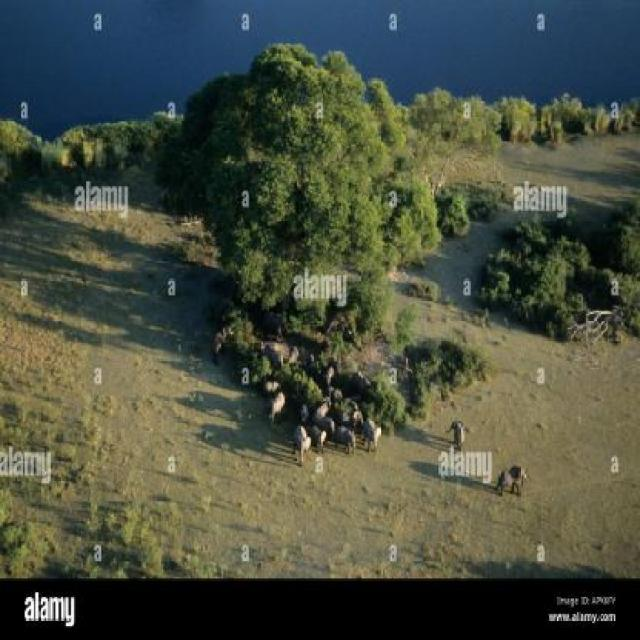elephant: (496, 462, 529, 502), (330, 422, 355, 463), (341, 395, 365, 434), (304, 414, 327, 452), (321, 360, 345, 388), (317, 408, 338, 438), (452, 415, 468, 454), (315, 393, 336, 421), (368, 412, 381, 457), (209, 327, 226, 358), (292, 425, 310, 453), (269, 389, 280, 425), (284, 342, 298, 362), (263, 374, 277, 392), (328, 382, 342, 396)
